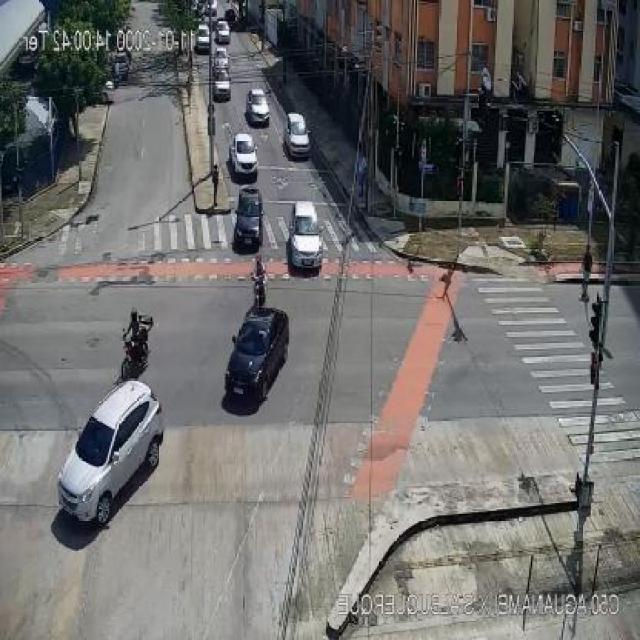Car: (56, 382, 168, 528), (222, 306, 292, 406), (287, 201, 324, 273), (231, 186, 267, 248), (284, 114, 312, 159), (230, 134, 258, 178), (245, 89, 272, 132), (212, 65, 235, 102)
Cycle: (120, 306, 156, 382), (248, 258, 272, 299)
